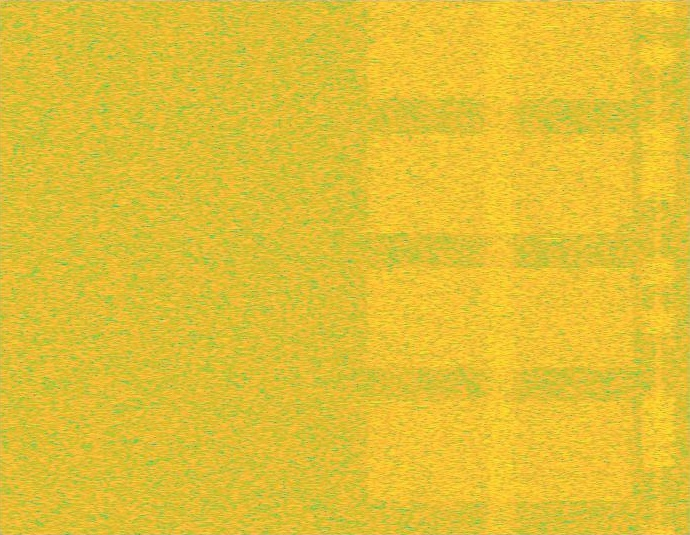5G: (362, 0, 638, 534)
DSSS: (481, 0, 519, 534), (654, 0, 662, 534)
LTE: (641, 0, 676, 534)
Radar: (544, 0, 558, 534)
